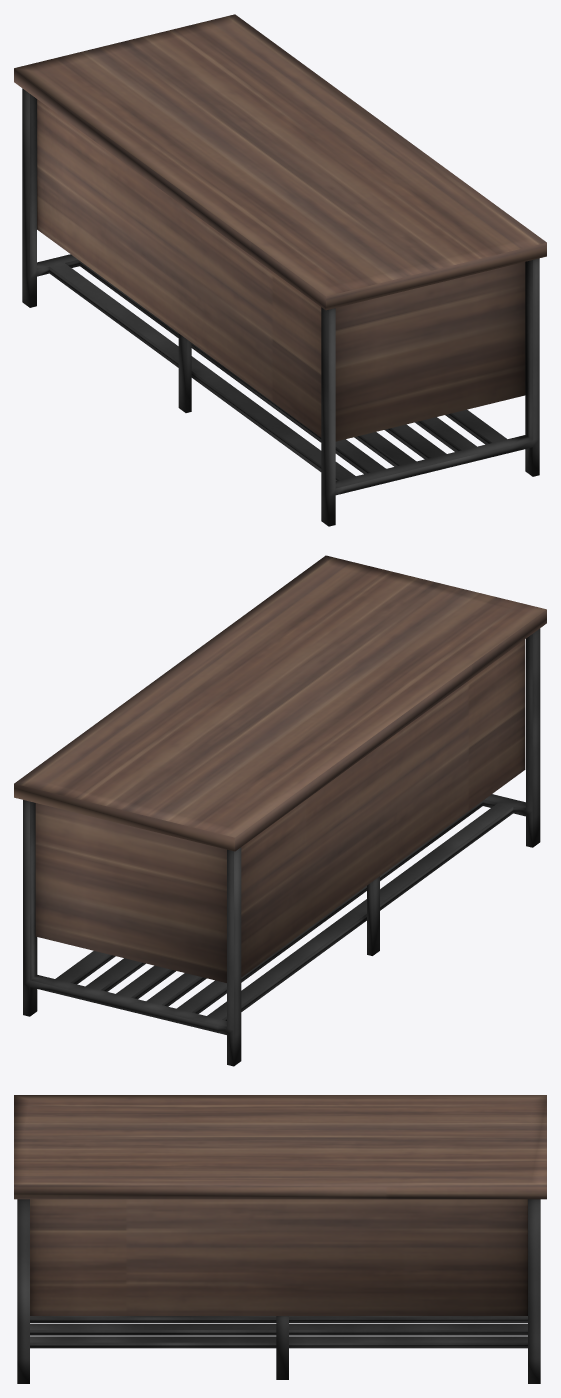
The model's file is cb-tecs_baked.glb.
3 views of the same model, one above another, from view 1: azimuth 30°, elevation 25°; view 2: azimuth 150°, elevation 25°; view 3: azimuth 270°, elevation 25° (orthographic). The views are drawn at different scales.
Parts seen in each view (by area): view 1: Mesh_0.024; view 2: Mesh_0.024; view 3: Mesh_0.024.
Boxes of the visible parts, x1,y1,x2,y2 form: Mesh_0.024: (14, 14, 546, 526); Mesh_0.024: (14, 555, 546, 1066); Mesh_0.024: (14, 1095, 546, 1383).
Bounding box in the file's own units: 45.59 × 45.85 × 111.
1 material, 1 textured.
